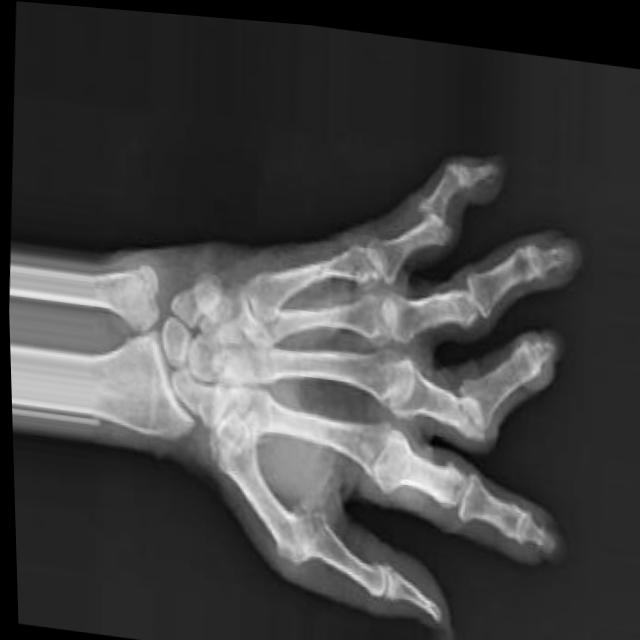fracture: (441, 375, 491, 436), (405, 189, 459, 237)
